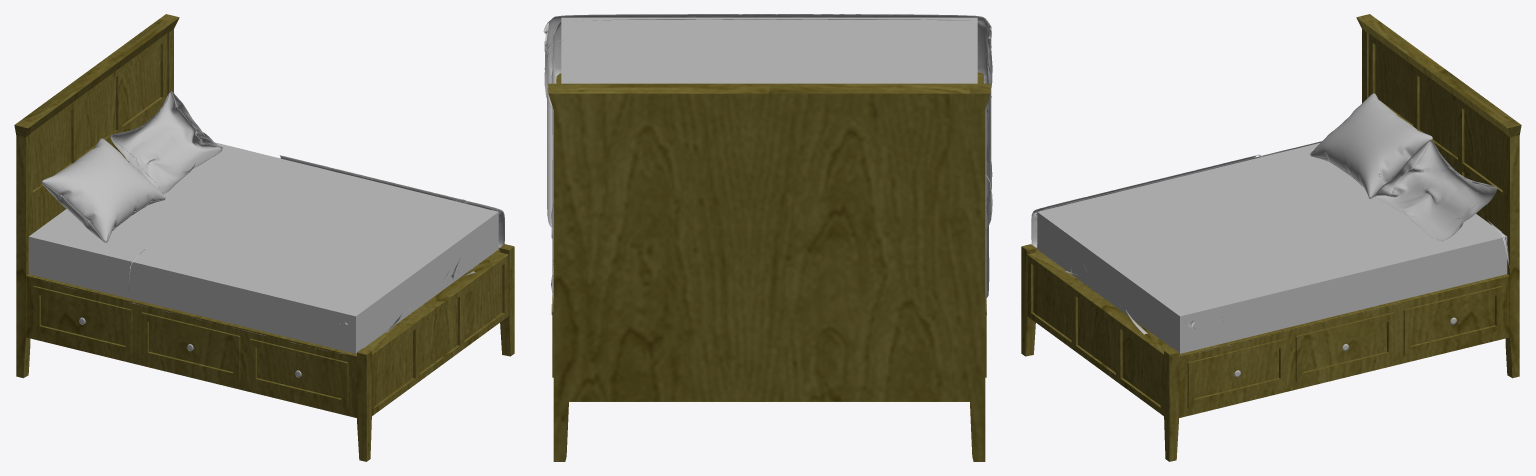
Rendered from bed.glb.
3 renders of one model, left to right at view 1: azimuth 30°, elevation 25°; view 2: azimuth 150°, elevation 25°; view 3: azimuth 270°, elevation 25°, orthographic. The views are drawn at different scales.
Parts seen in each view (by area): view 1: cloth_obj, wood_obj; view 2: wood_obj, cloth_obj; view 3: cloth_obj, wood_obj.
Boxes of the visible parts, <box> form: cloth_obj: <box>28,90,504,355</box>; wood_obj: <box>14,14,514,461</box>; wood_obj: <box>548,72,990,461</box>; cloth_obj: <box>543,14,992,299</box>; cloth_obj: <box>1031,93,1509,356</box>; wood_obj: <box>1021,14,1521,461</box>.
Bounding box in the file's own units: 0.00233 × 0.00141 × 0.00253.
3 materials, 1 textured.
